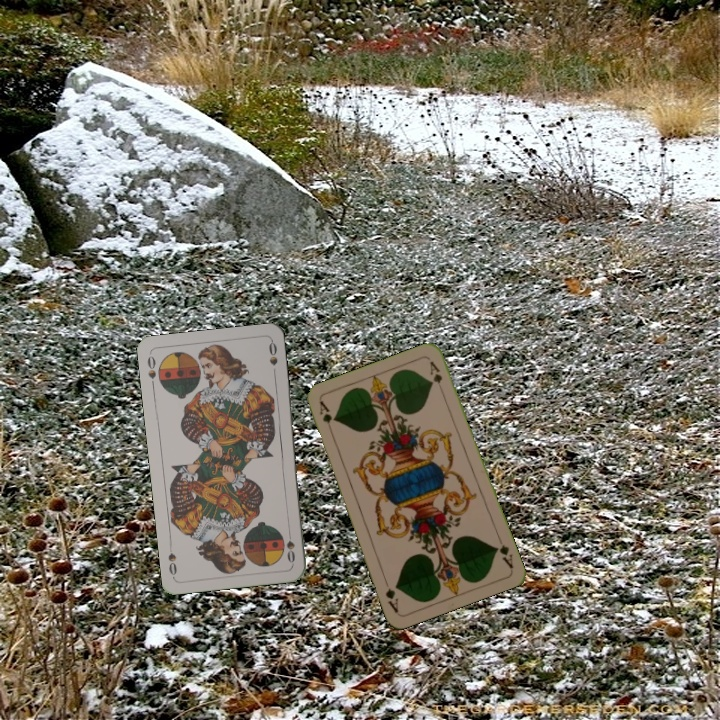GA: (491, 532, 516, 571), (315, 397, 336, 437)
SO: (143, 352, 159, 391), (283, 525, 297, 566)
